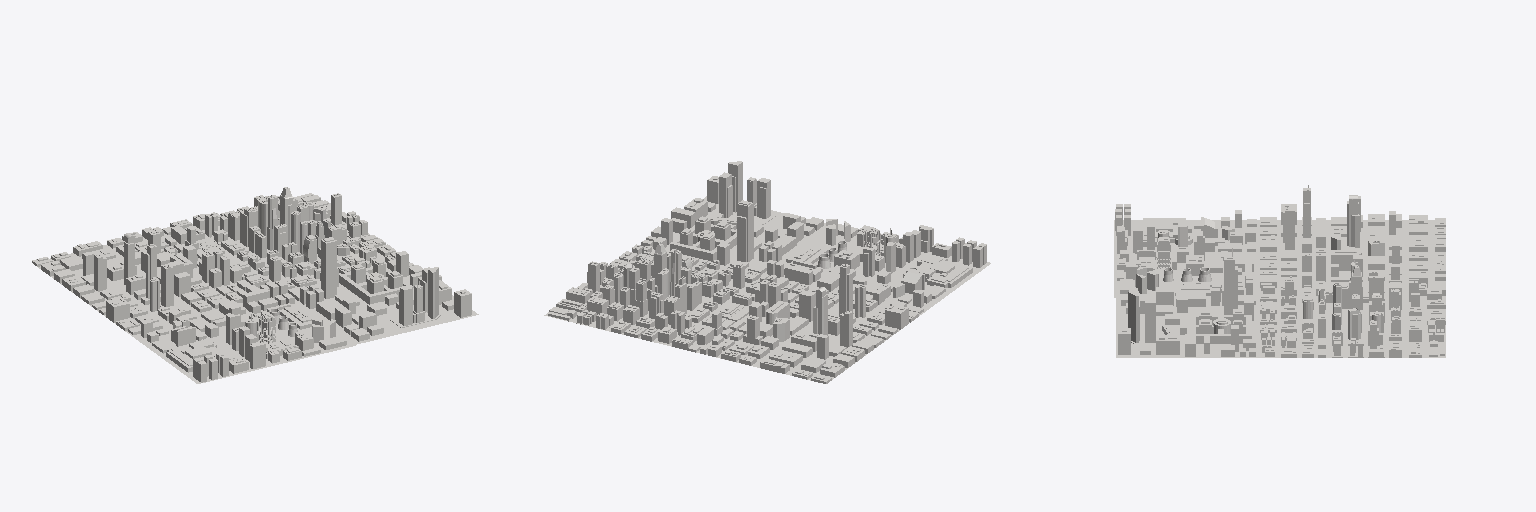
The picture shows the model from 3 angles: view 1: azimuth 30°, elevation 25°; view 2: azimuth 150°, elevation 25°; view 3: azimuth 270°, elevation 25°; orthographic projection.
Parts seen in each view (by area): view 1: Layer0_001; view 2: Layer0_001; view 3: Layer0_001.
Part boxes in pixels (bbox=[...]): Layer0_001: bbox=[32, 187, 478, 383]; Layer0_001: bbox=[544, 161, 990, 383]; Layer0_001: bbox=[1114, 185, 1445, 357].
Bounding box in the file's own units: 951524 × 214252 × 968151.